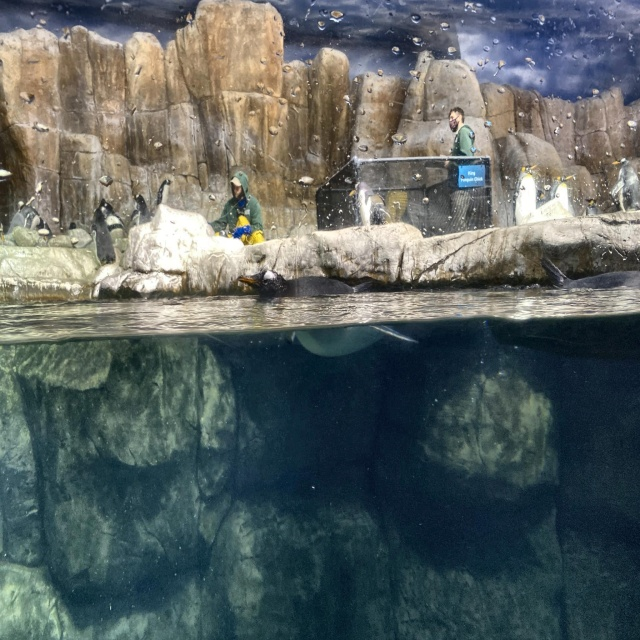penguin: (236, 269, 418, 364), (478, 254, 639, 360), (349, 182, 391, 228), (513, 165, 539, 226), (611, 158, 639, 213), (9, 202, 50, 238), (91, 209, 116, 266), (552, 174, 580, 219), (99, 198, 122, 230), (128, 193, 149, 228), (158, 177, 172, 205)
